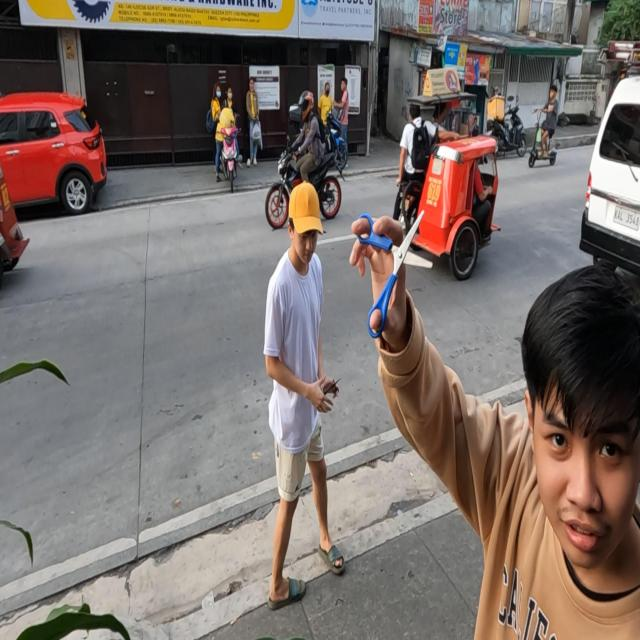scissor: (356, 210, 433, 338)
